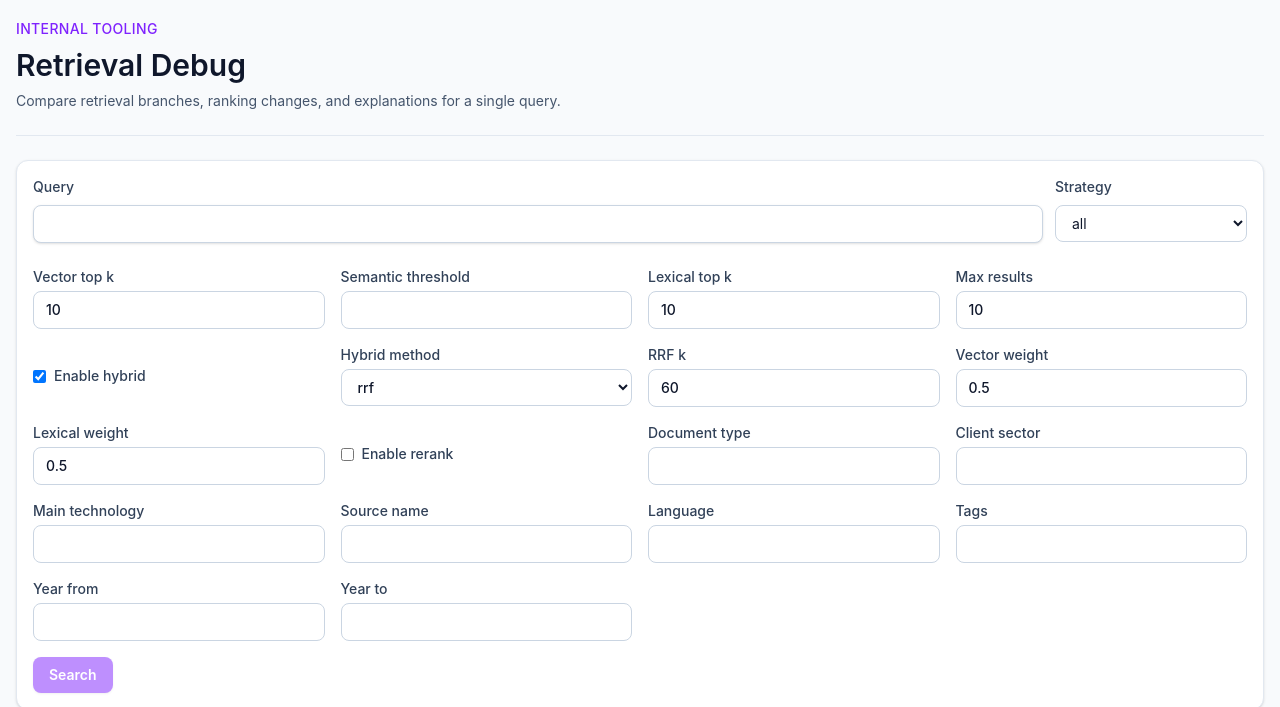
Test: RetrievalDebugPage › renders warnings even when no final results are returned
Type "OAuth backend" into the search field labelled "Query" at (538, 224), box top-left (33, 205), bottom-right (1043, 243)
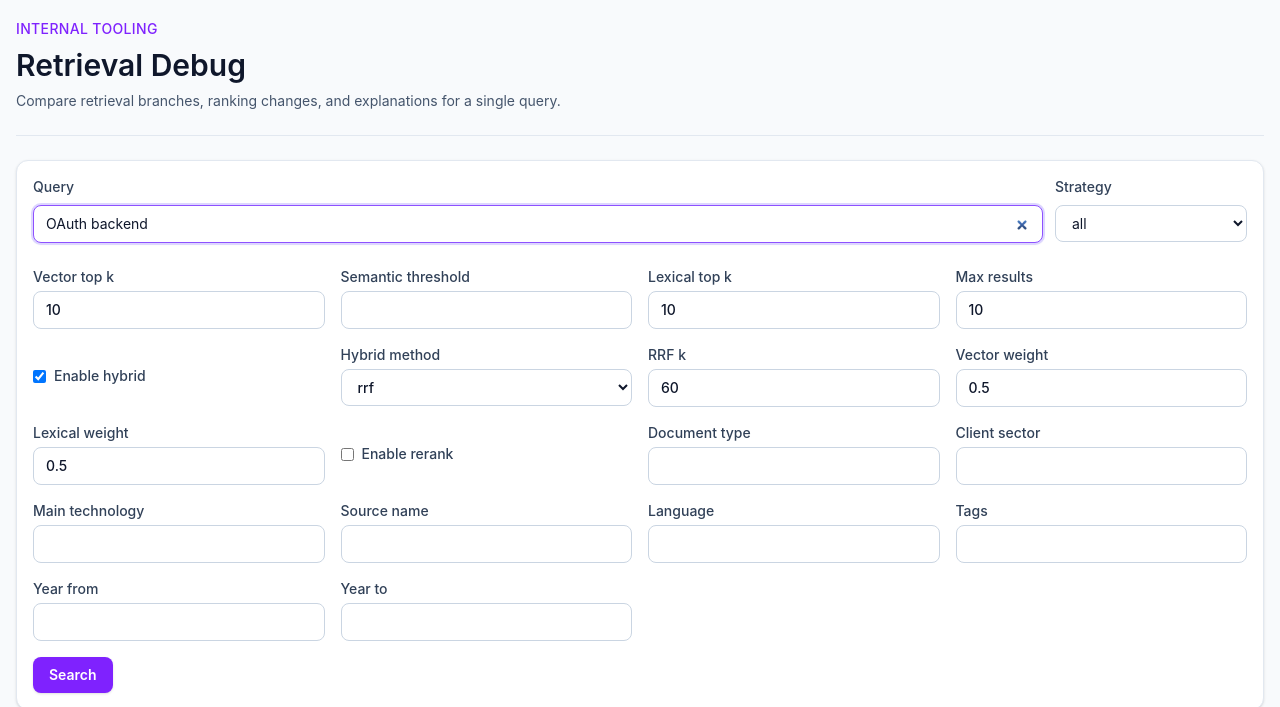
Click the button "Search" at (73, 675), box top-left (33, 657), bottom-right (112, 693)
(page scrolled)
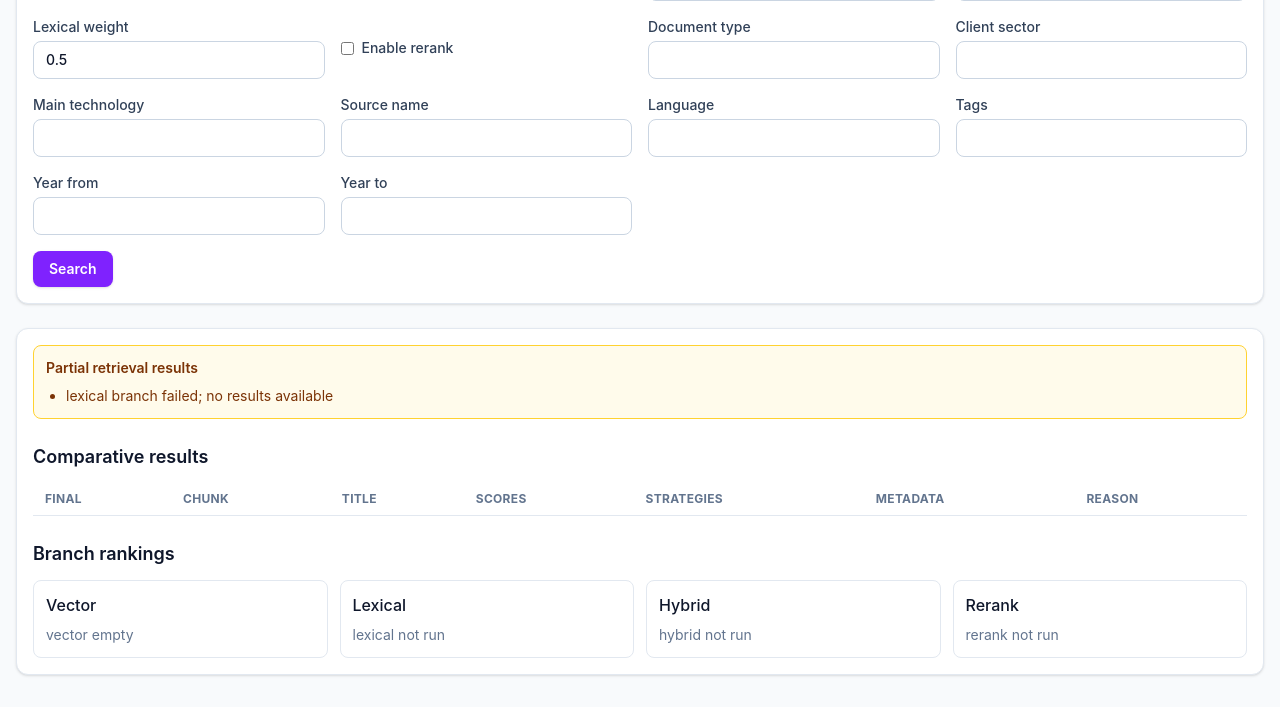
Result: the heading "Partial retrieval results" is shown at top-left (46, 359), bottom-right (198, 376)
Result: the list item "lexical branch failed; no results available" is shown at top-left (66, 387), bottom-right (333, 404)
